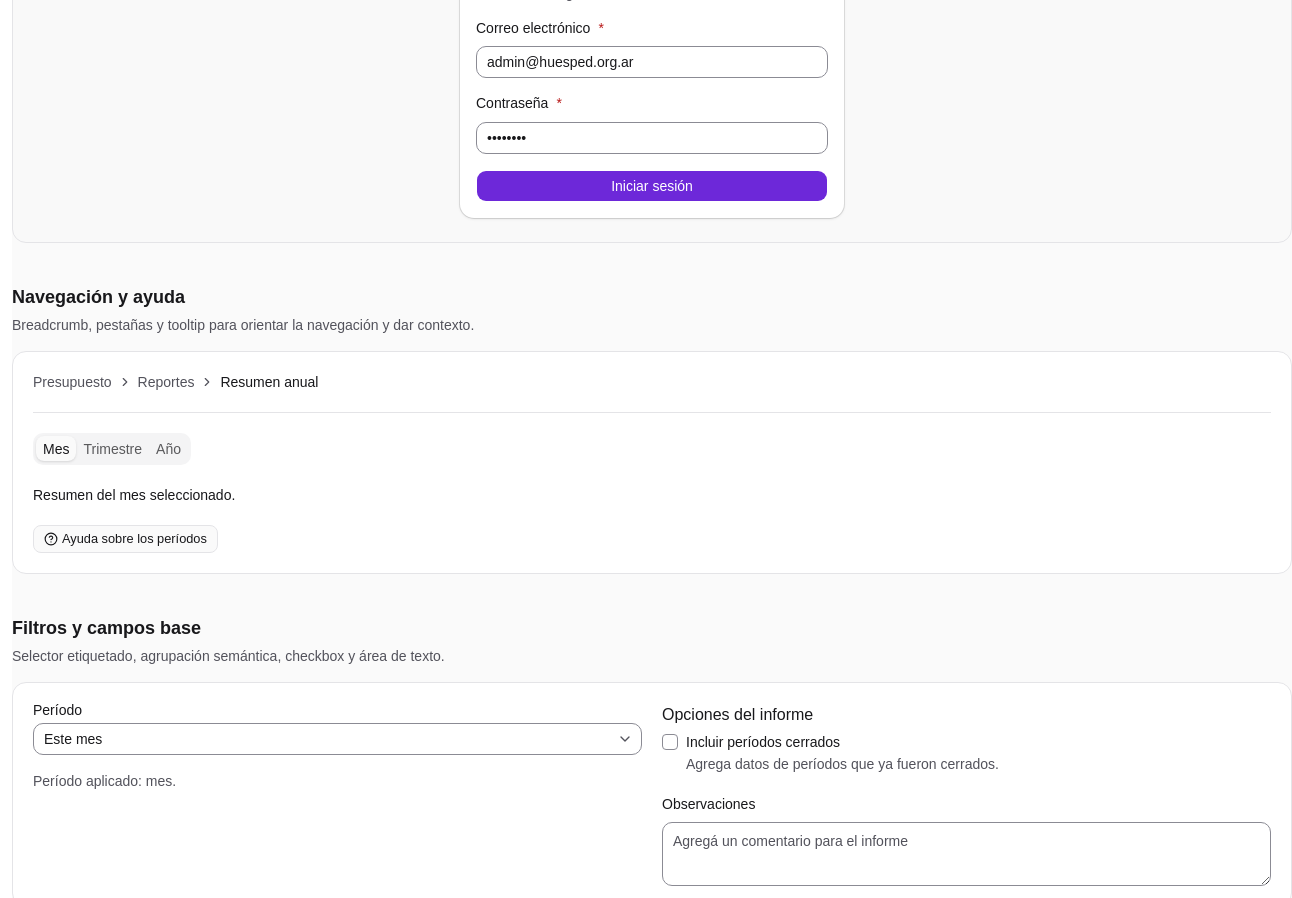
Scenario: UiGalleryPage › permite cambiar el período de las pestañas y el filtro
(page scrolled)
Click the tab "Año".
click(168, 448)  # box [149,436,188,461]
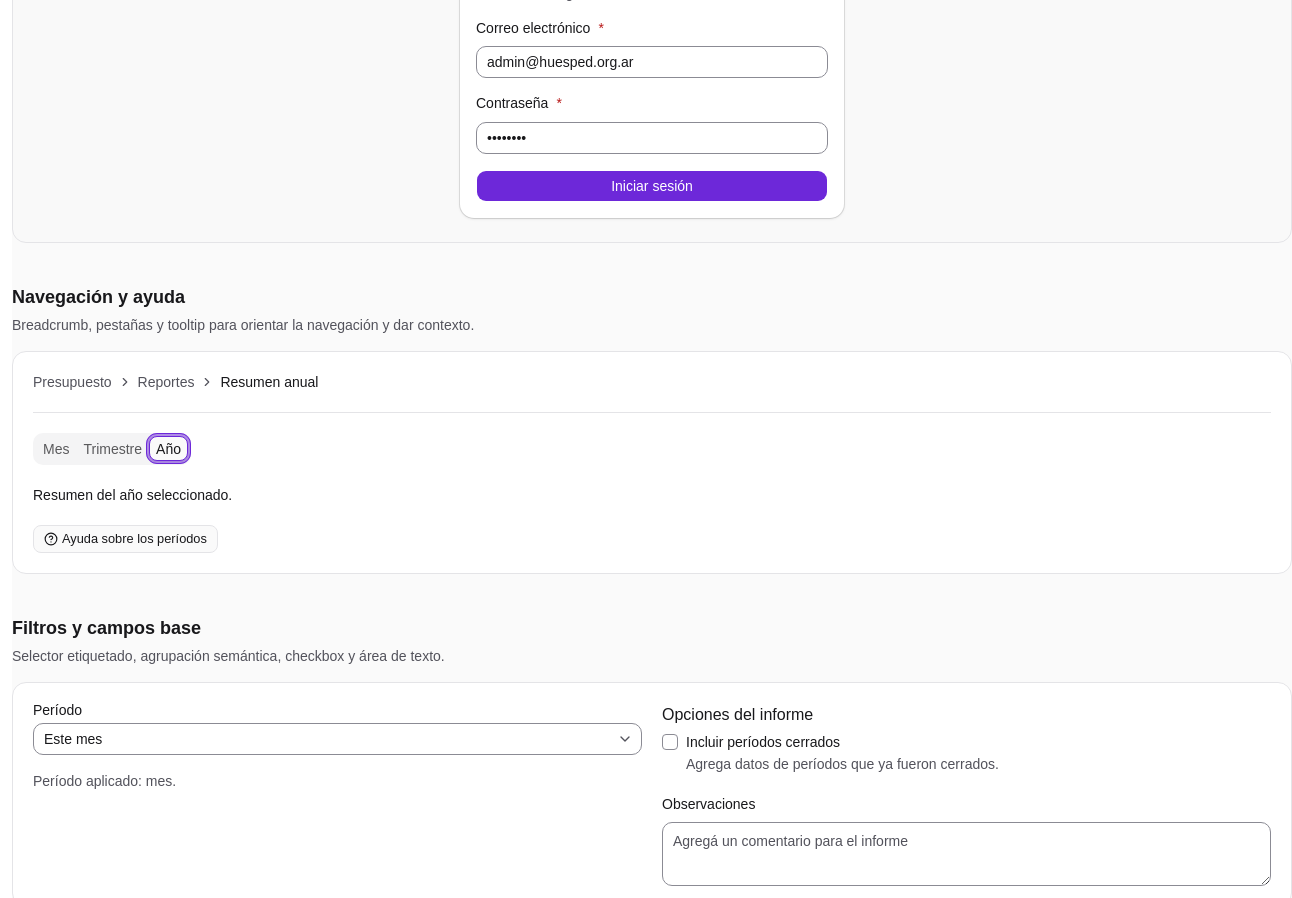
Check: the text "Resumen del año seleccionado." is shown, box [33,486,232,502]
Click the dropdown named "Período".
click(73, 738)  # box [33,722,642,754]
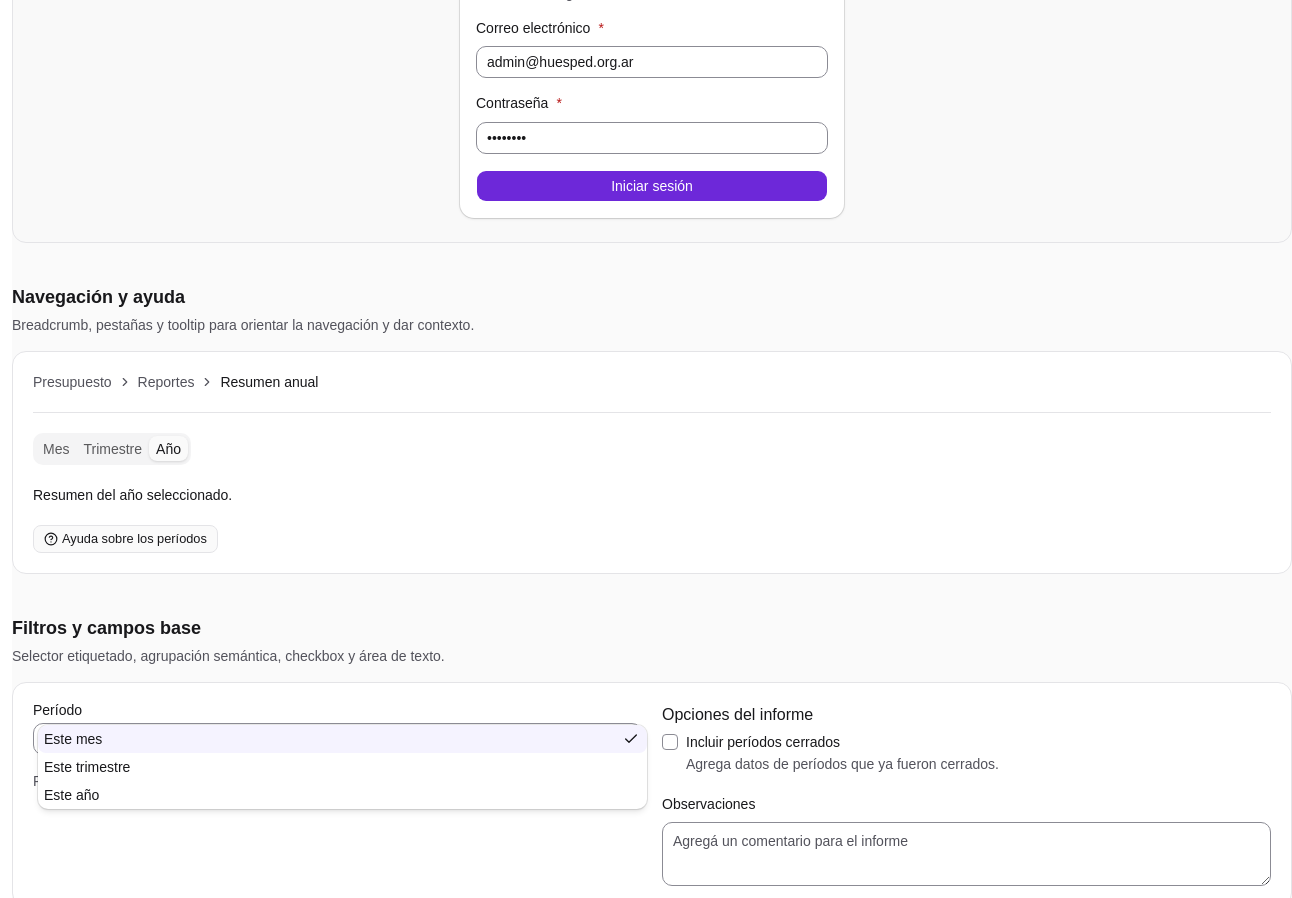
Click the option "Este año".
click(72, 794)  # box [44,786,99,802]
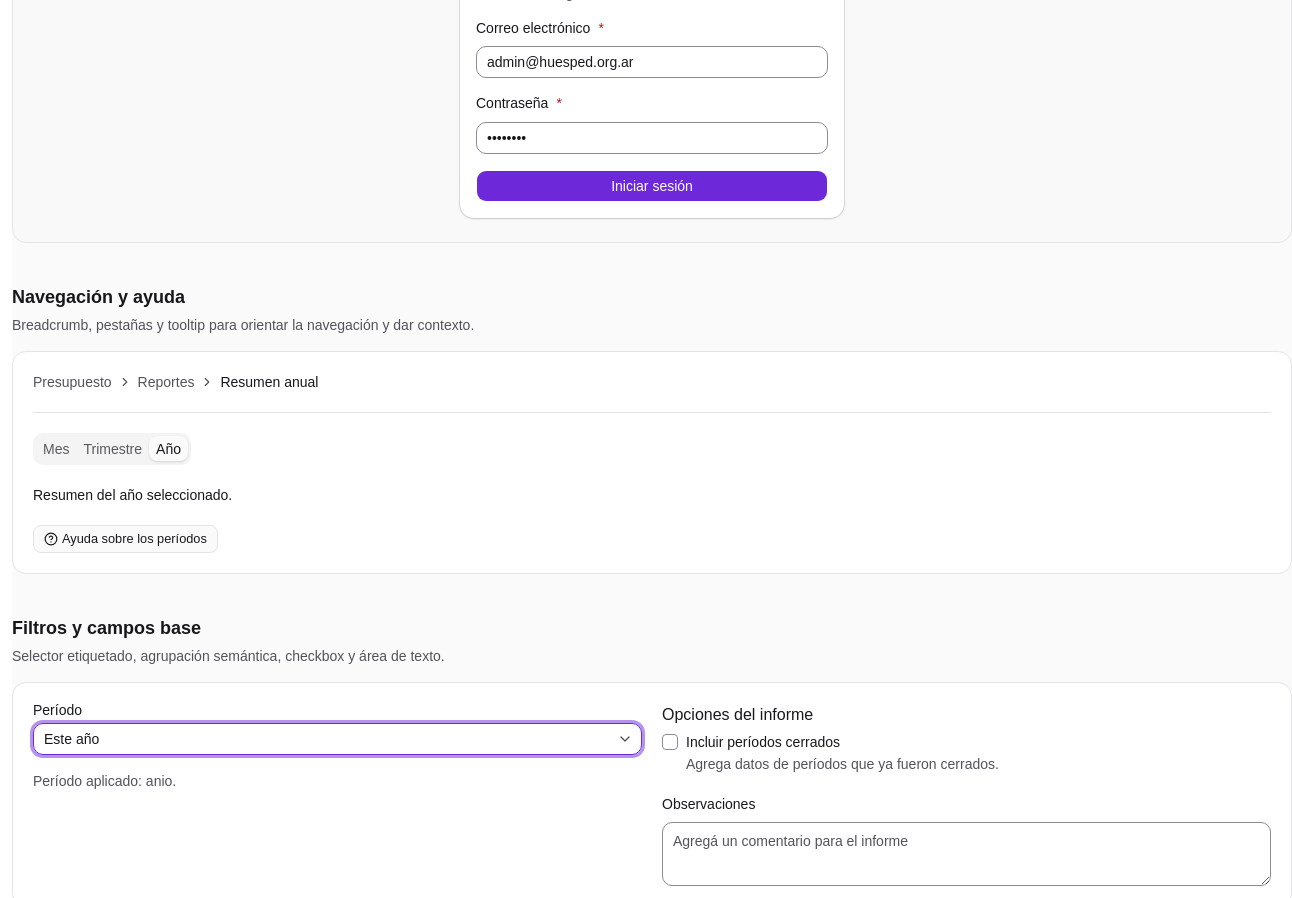
Check: the text "Período aplicado: anio." is shown, box [33,772,176,788]
